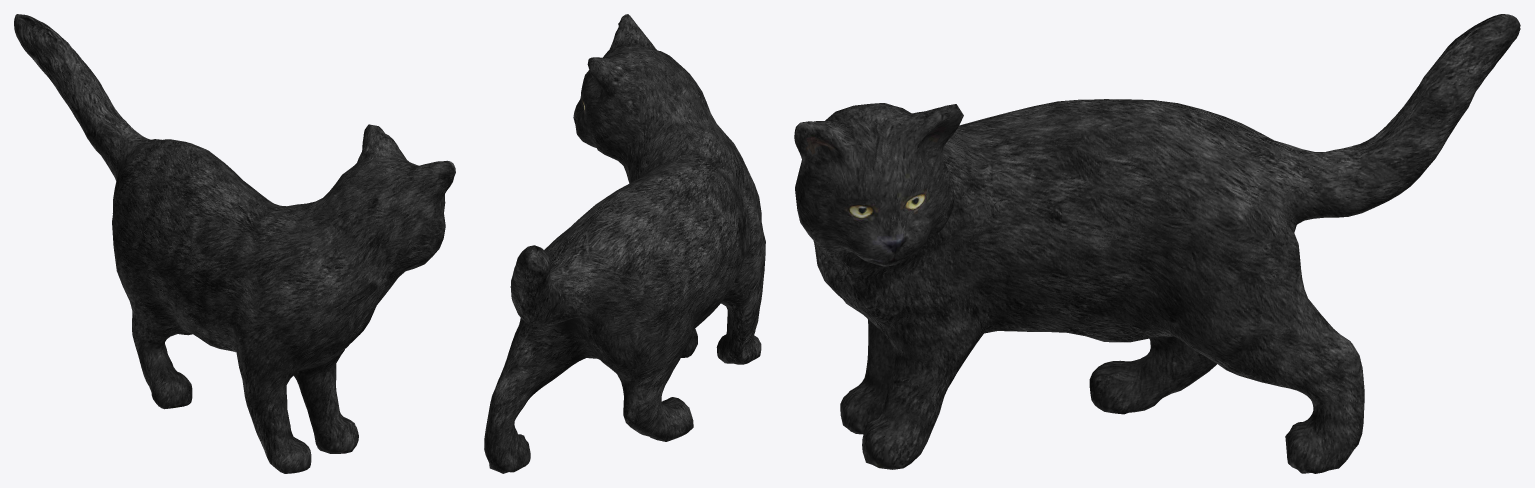
Rendered from cat.gltf.
3 views of the same model, side by side, from view 1: azimuth 30°, elevation 25°; view 2: azimuth 150°, elevation 25°; view 3: azimuth 270°, elevation 25° (orthographic). The views are drawn at different scales.
Parts seen in each view (by area): view 1: 动物_猫; view 2: 动物_猫; view 3: 动物_猫.
Boxes of the visible parts, bbox=[...] form: 动物_猫: bbox=[14, 14, 455, 473]; 动物_猫: bbox=[484, 14, 765, 473]; 动物_猫: bbox=[794, 14, 1520, 473].
Size of the model in its own units: 0.0289 by 0.039 by 0.0649.
1 material, 1 textured.
